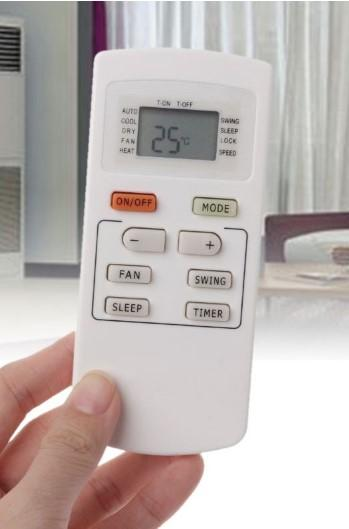Remote control: (72, 48, 273, 458)
